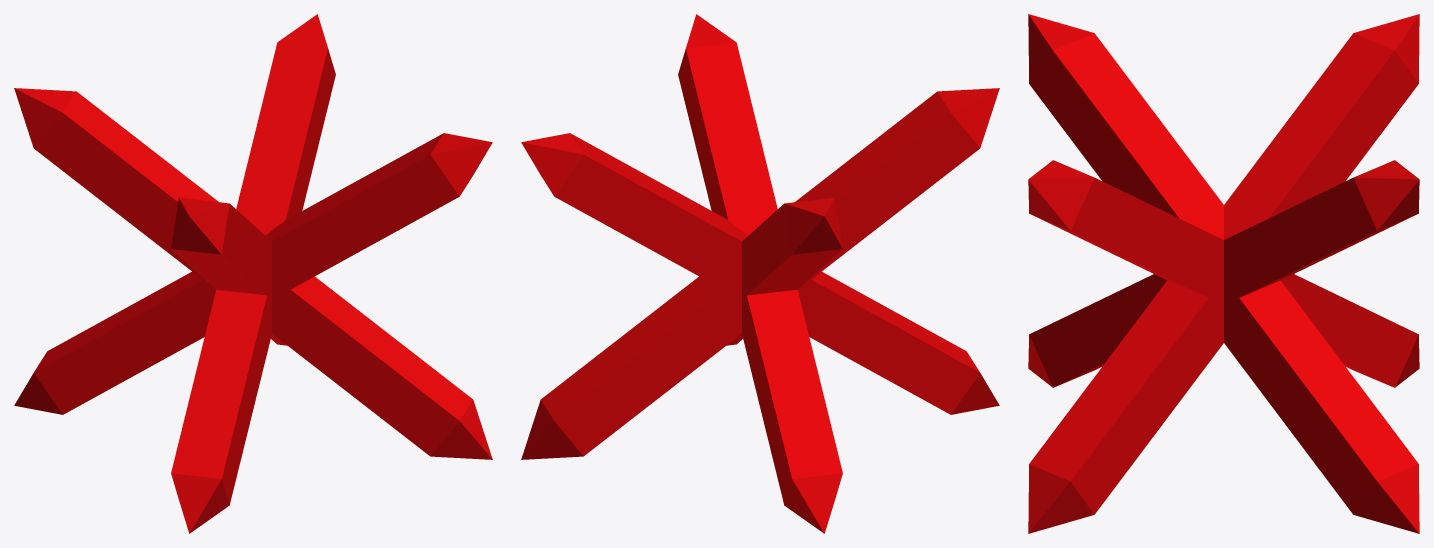
The model's file is Cross.fbx.
3 views of the same model, side by side, from view 1: azimuth 30°, elevation 25°; view 2: azimuth 150°, elevation 25°; view 3: azimuth 270°, elevation 25° (orthographic). The views are drawn at different scales.
Visible parts, largest first — view 1: Cube.004; view 2: Cube.004; view 3: Cube.004.
Boxes of the visible parts, <box> form: Cube.004: <box>14,14,492,533</box>; Cube.004: <box>521,14,999,533</box>; Cube.004: <box>1028,14,1419,533</box>.
Size of the model in its own units: 200 by 200 by 200.
